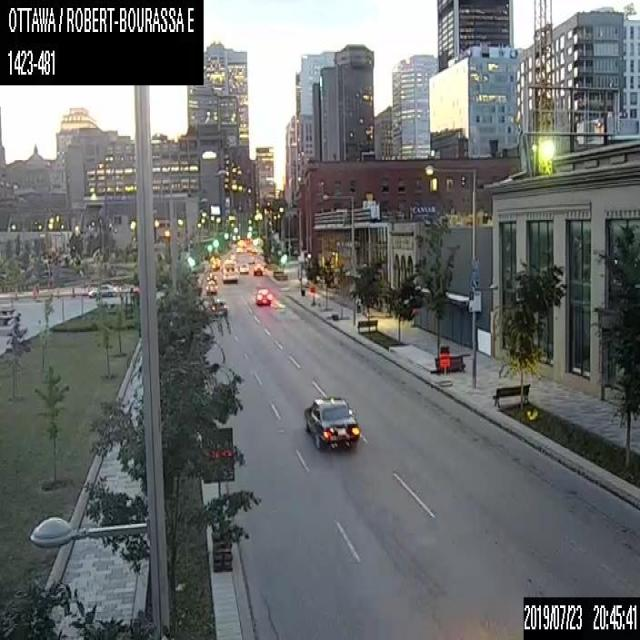bus: (219, 258, 238, 282)
construction: (201, 424, 234, 570), (437, 349, 450, 384)
vehicle: (303, 395, 360, 448), (88, 282, 116, 298), (209, 298, 227, 318), (254, 284, 271, 305), (204, 276, 217, 293), (252, 264, 262, 277), (239, 262, 248, 274)
